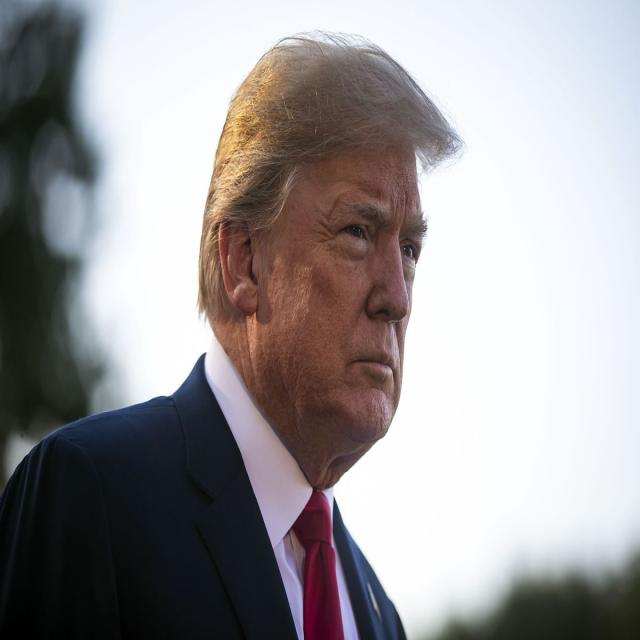human: (4, 45, 483, 640)
